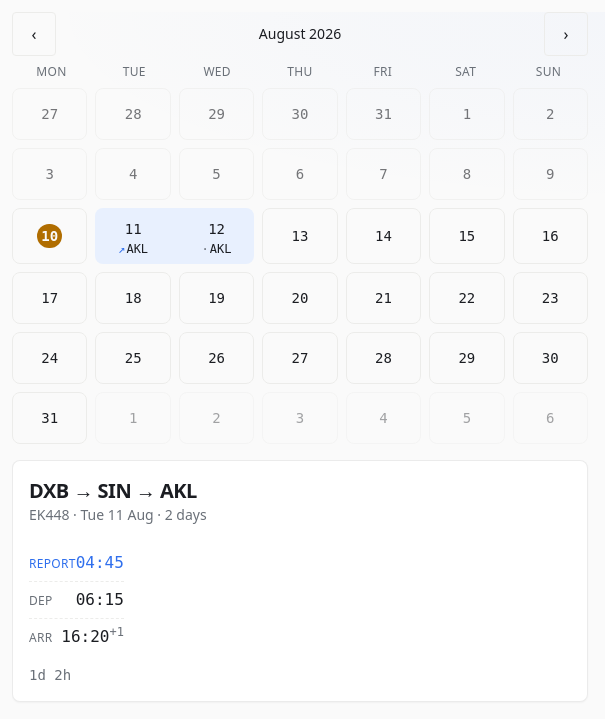
it: CalendarHome › single tap on an empty calendar day selects it and shows a no-duty detail card with the inline add-trip form
expect the button with test id "calendar-next" is shown: met, box [544, 12, 588, 56]
Click the button with test id "calendar-day-2026-08-20" at (300, 298), box [262, 272, 338, 324]
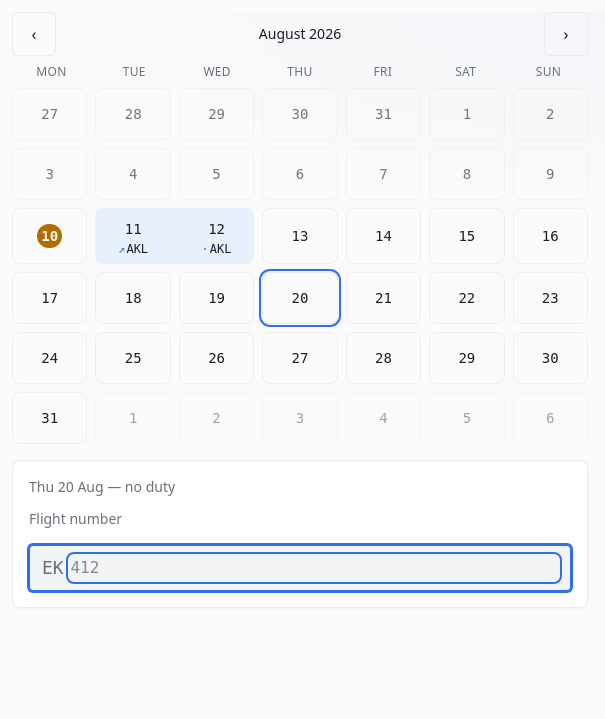
expect the element with test id "day-detail-card" shows "no duty": met, box [104, 477, 175, 496]
expect the field with test id "flightno-input" is shown: met, box [70, 556, 558, 580]
expect the button with test id "next-duty-card" is gone: met
